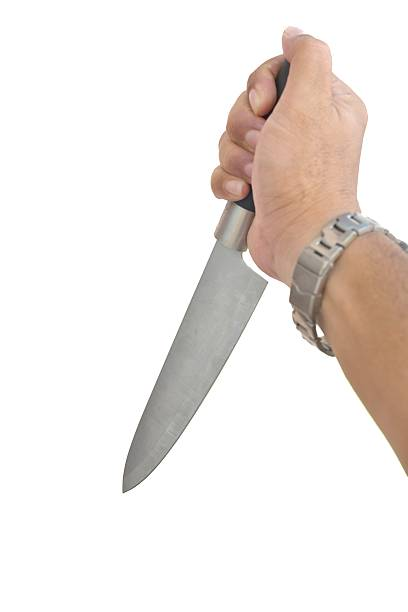knife: (119, 61, 294, 497)
